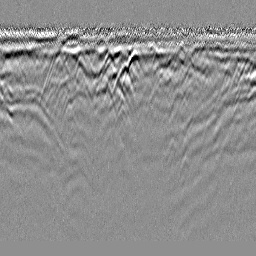cavity: (112, 61, 136, 95)
